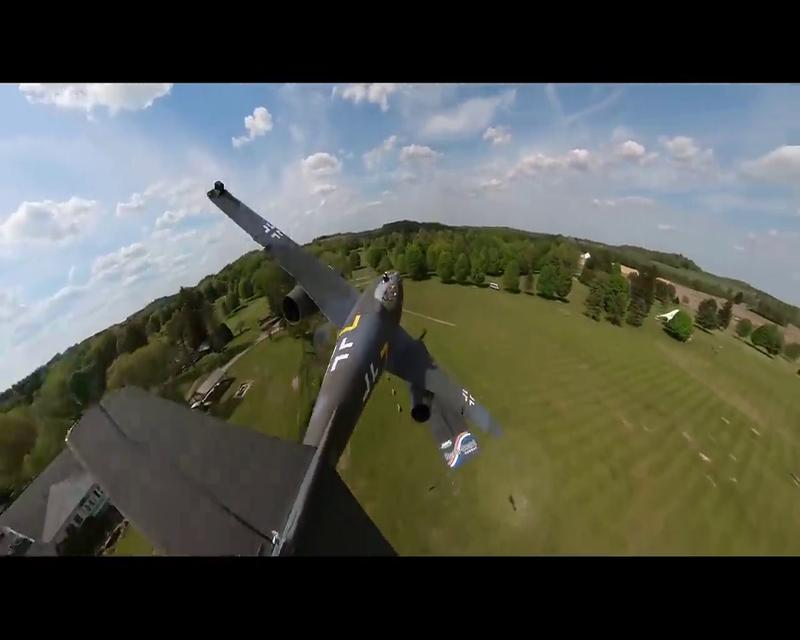UAV: (66, 180, 506, 553)
